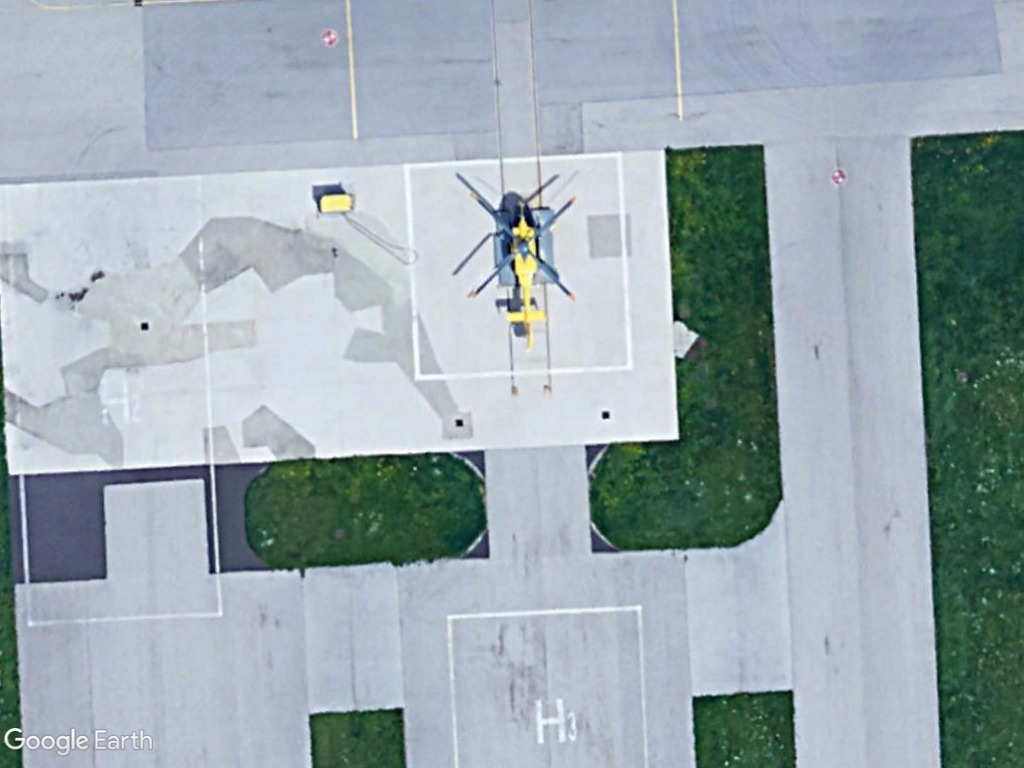helicopter: (460, 183, 582, 355)
